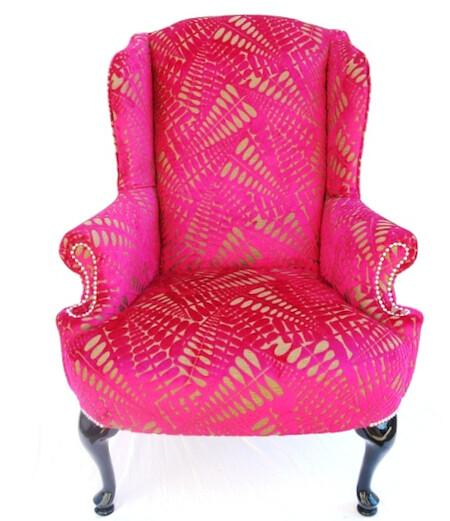chair: (56, 14, 425, 518)
